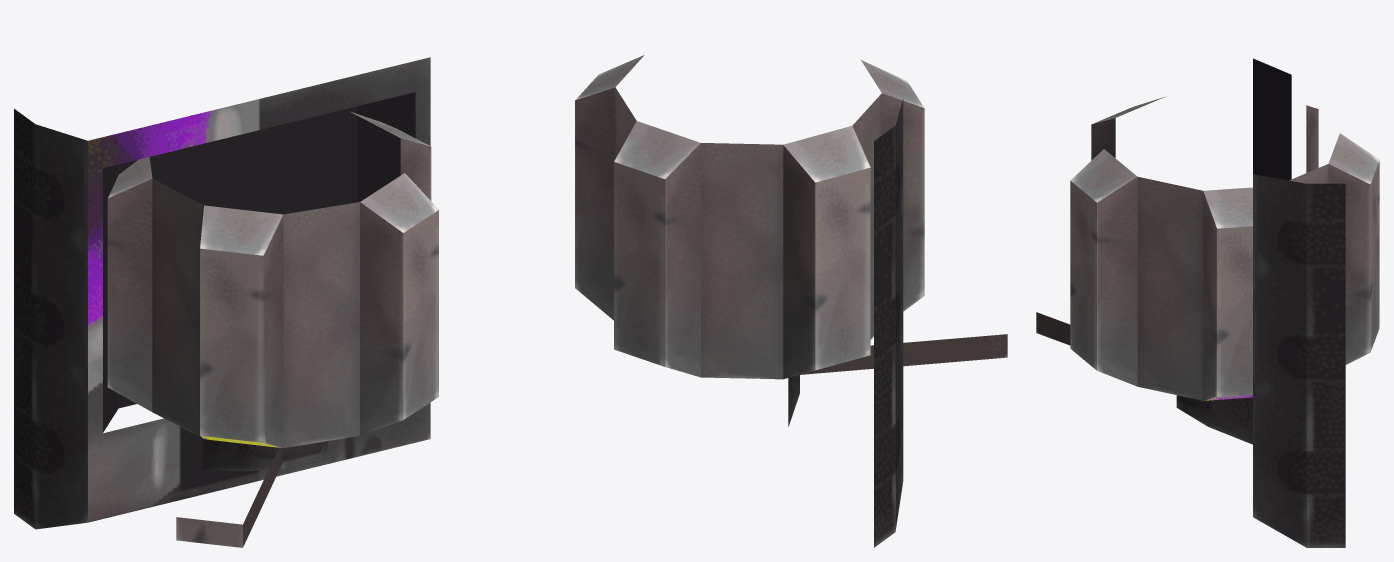
File: toggle-switch.glb
The picture shows the model from 3 angles, left to right: view 1: azimuth 30°, elevation 25°; view 2: azimuth 150°, elevation 25°; view 3: azimuth 270°, elevation 25°; orthographic projection. The views are drawn at different scales.
Visible parts, largest first — view 1: togglewalls.toggle-switch-MeshNodes["toggle-switch"], togglewalls.toggle-switch-MeshNodes["toggle-switch_gear"], togglewalls.toggle-switch-MeshNodes["toggle-switch_lever"]; view 2: togglewalls.toggle-switch-MeshNodes["toggle-switch_gear"], togglewalls.toggle-switch-MeshNodes["toggle-switch"], togglewalls.toggle-switch-MeshNodes["toggle-switch_lever"]; view 3: togglewalls.toggle-switch-MeshNodes["toggle-switch_gear"], togglewalls.toggle-switch-MeshNodes["toggle-switch"], togglewalls.toggle-switch-MeshNodes["toggle-switch_lever"].
Part boxes in pixels (bbox=[...]): togglewalls.toggle-switch-MeshNodes["toggle-switch"]: bbox=[14, 57, 430, 529]; togglewalls.toggle-switch-MeshNodes["toggle-switch_gear"]: bbox=[107, 111, 438, 448]; togglewalls.toggle-switch-MeshNodes["toggle-switch_lever"]: bbox=[176, 447, 283, 547]; togglewalls.toggle-switch-MeshNodes["toggle-switch_gear"]: bbox=[575, 55, 924, 379]; togglewalls.toggle-switch-MeshNodes["toggle-switch"]: bbox=[788, 98, 903, 547]; togglewalls.toggle-switch-MeshNodes["toggle-switch_lever"]: bbox=[753, 334, 1007, 378]; togglewalls.toggle-switch-MeshNodes["toggle-switch_gear"]: bbox=[1070, 96, 1379, 400]; togglewalls.toggle-switch-MeshNodes["toggle-switch"]: bbox=[1176, 58, 1345, 547]; togglewalls.toggle-switch-MeshNodes["toggle-switch_lever"]: bbox=[1036, 312, 1070, 345].
Size of the model in its own units: 1.14 by 1.19 by 0.9783.
2 materials, 2 textured.
